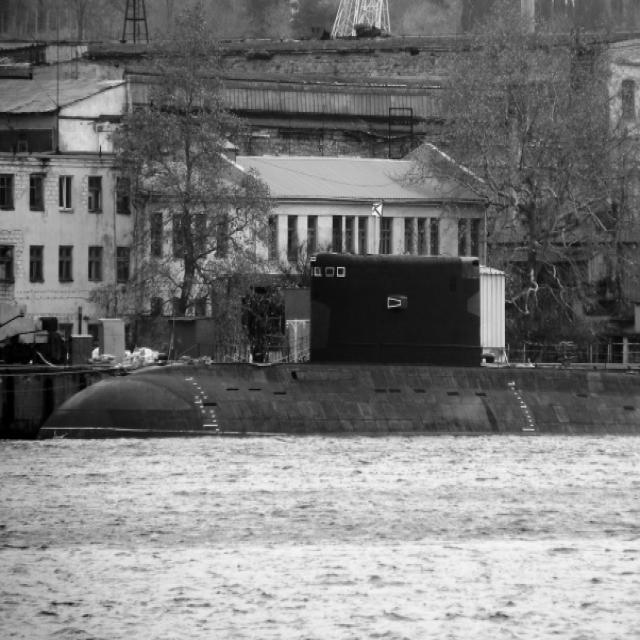submarine: (39, 261, 640, 439)
